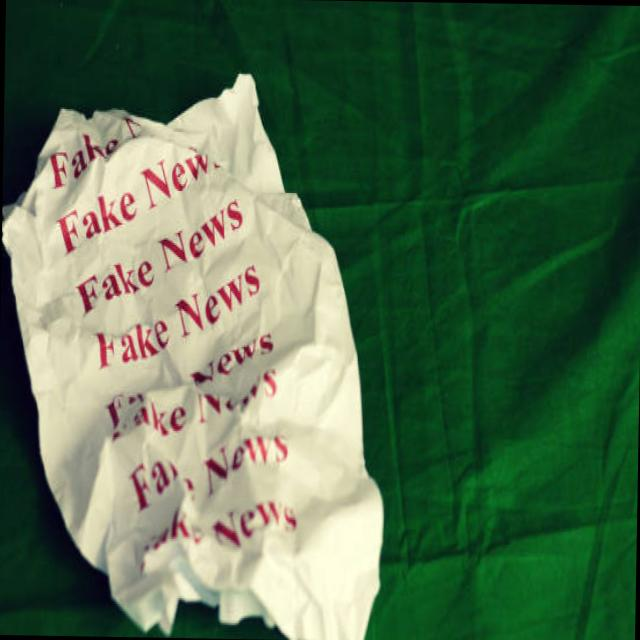electronic: (0, 66, 392, 640)
